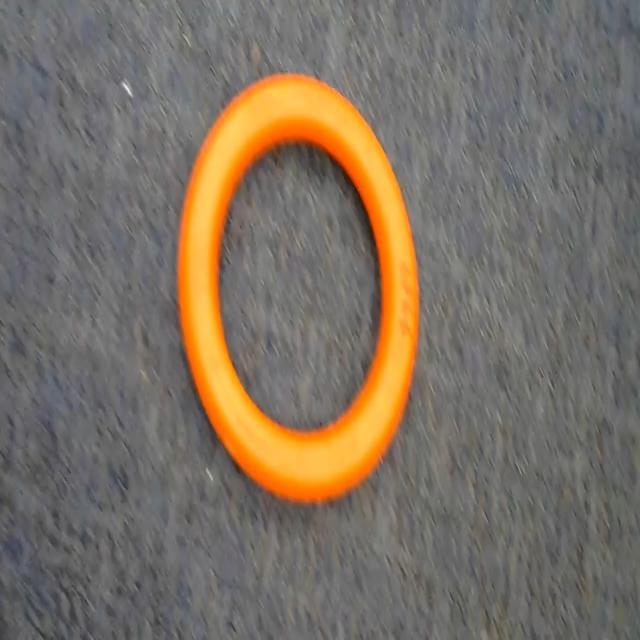note: (170, 76, 428, 516)
